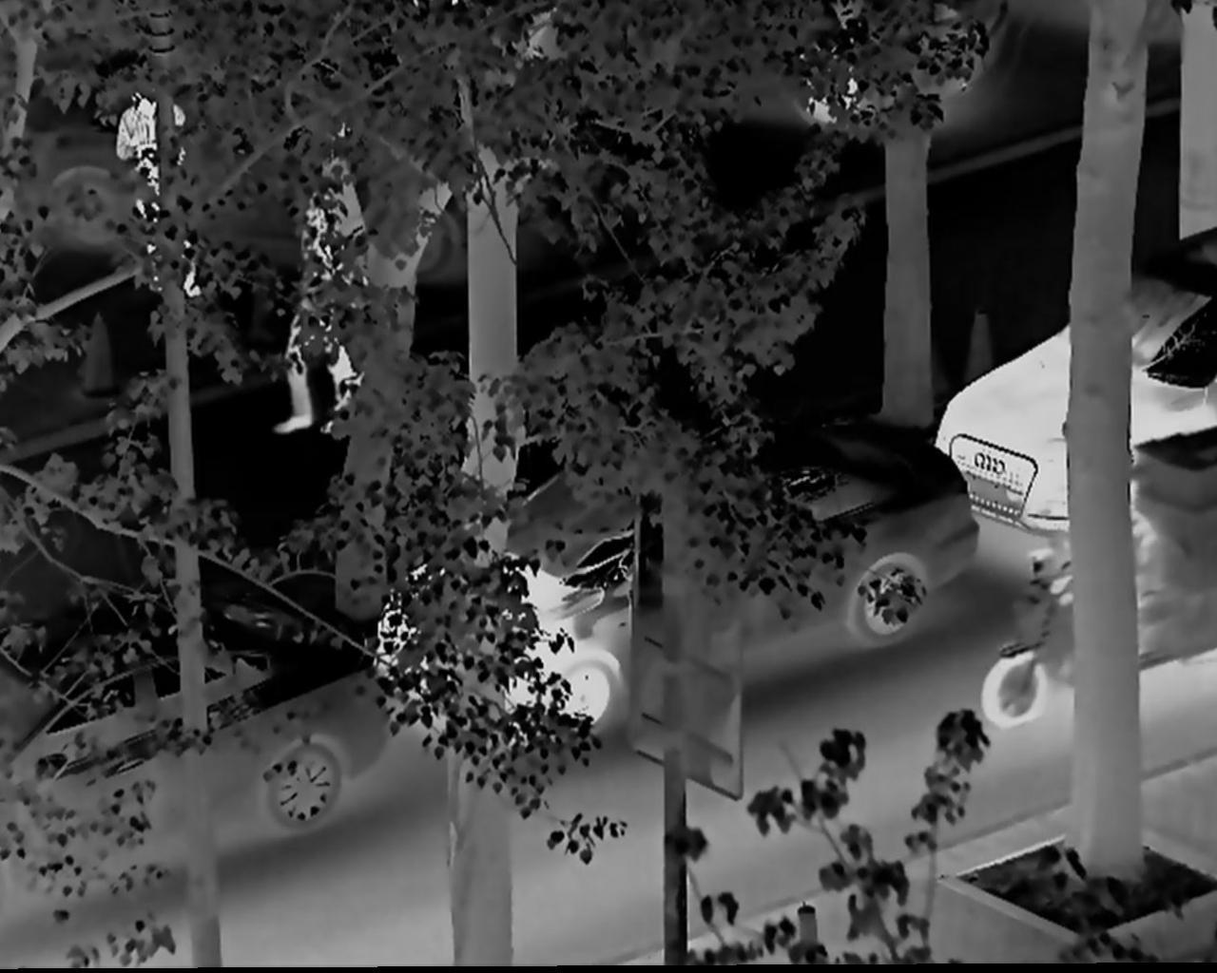person: (107, 83, 206, 314), (278, 203, 355, 441)
